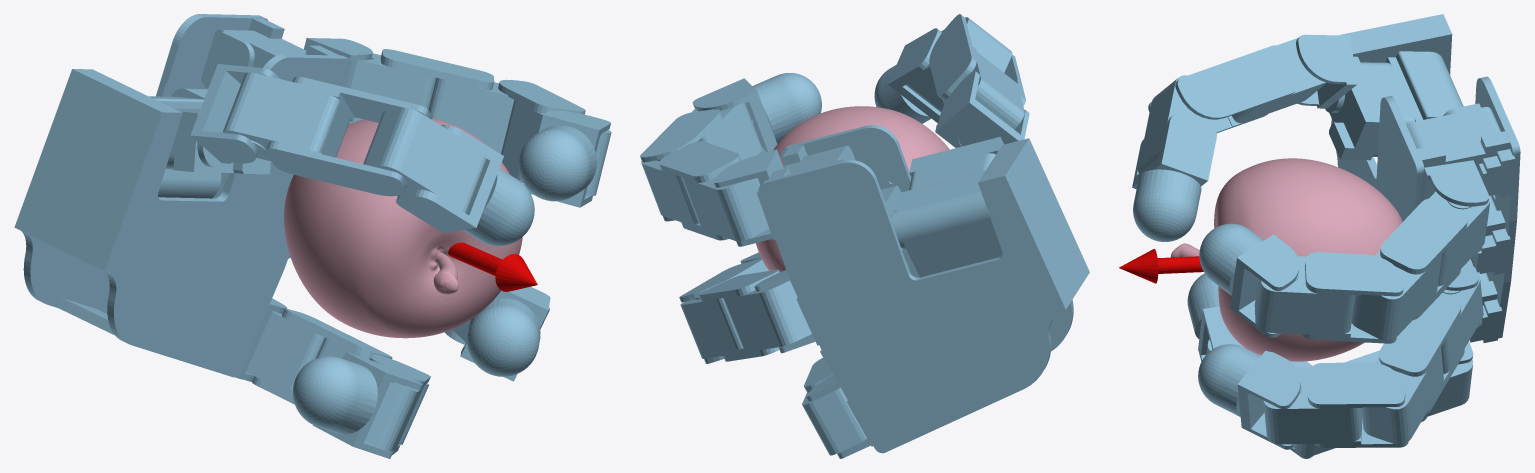
3 views of the same model, side by side, from view 1: azimuth 30°, elevation 25°; view 2: azimuth 150°, elevation 25°; view 3: azimuth 270°, elevation 25° (orthographic). The views are drawn at different scales.
Parts seen in each view (by area): view 1: world, apple.stl; view 2: world, apple.stl; view 3: world, apple.stl.
Boxes of the visible parts, left/top/right/bottom form: world: left=14, top=14, right=611, bottom=458; apple.stl: left=284, top=118, right=522, bottom=338; world: left=640, top=14, right=1089, bottom=458; apple.stl: left=756, top=106, right=949, bottom=272; world: left=1119, top=14, right=1520, bottom=458; apple.stl: left=1170, top=158, right=1402, bottom=361.
Size of the model in its own units: 0.1942 by 0.1519 by 0.1511.
